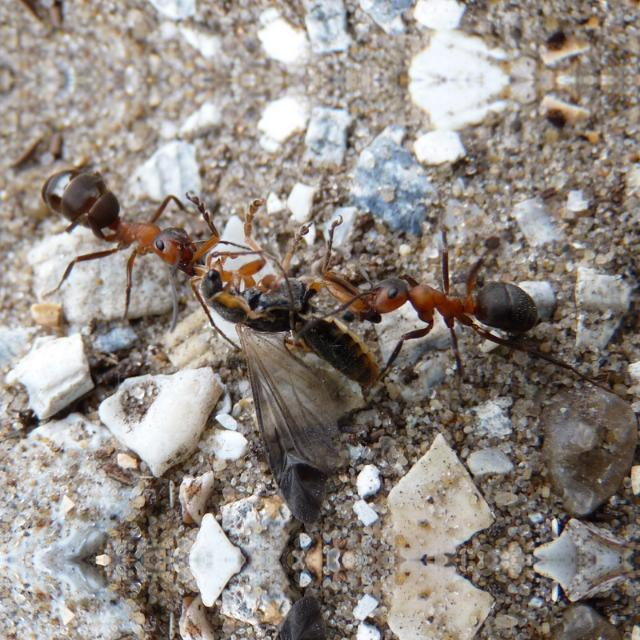Formica: (324, 234, 590, 366), (18, 114, 192, 286), (17, 0, 192, 46)
